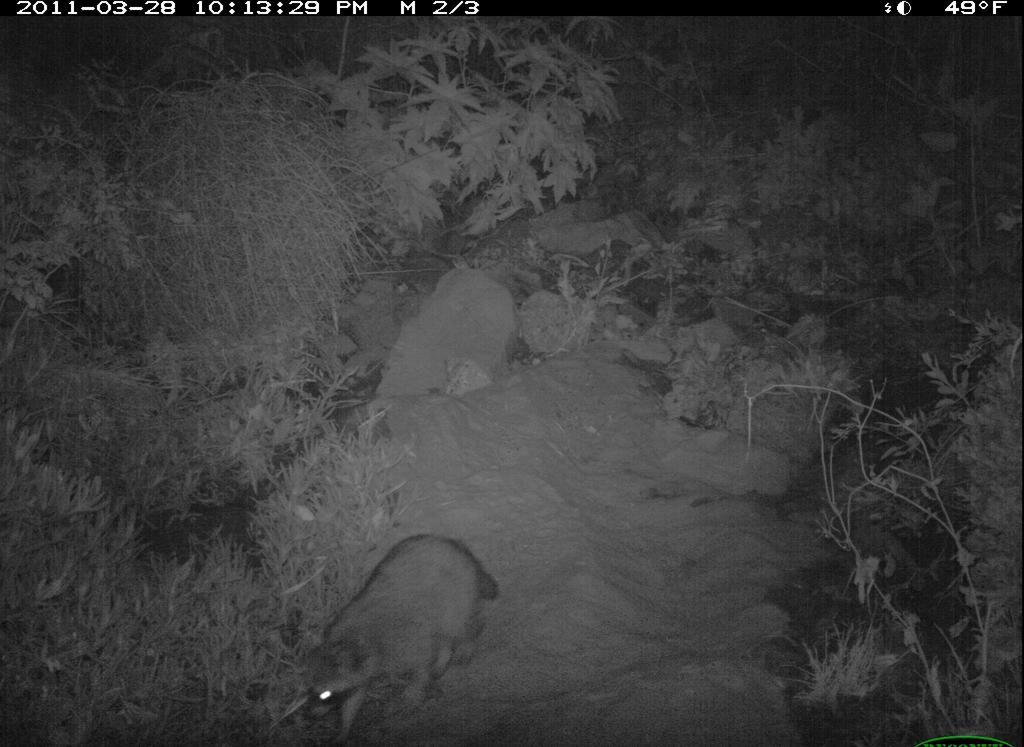raccoon: (295, 529, 507, 744)
